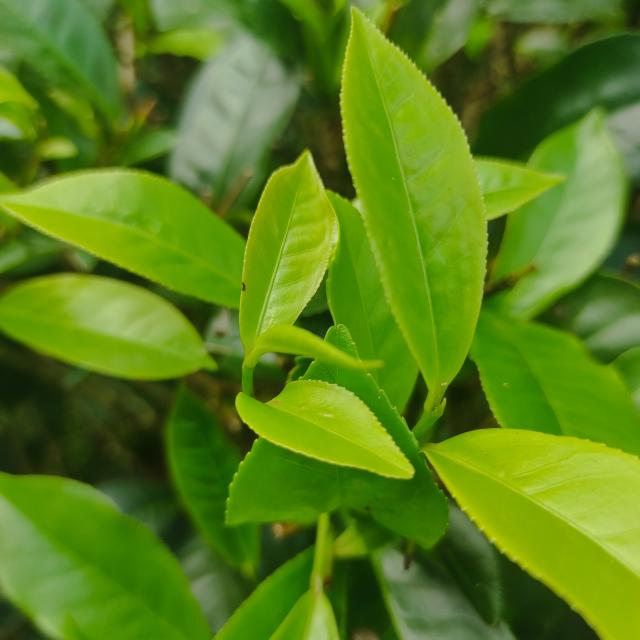unopened_leaf: (241, 309, 390, 382)
